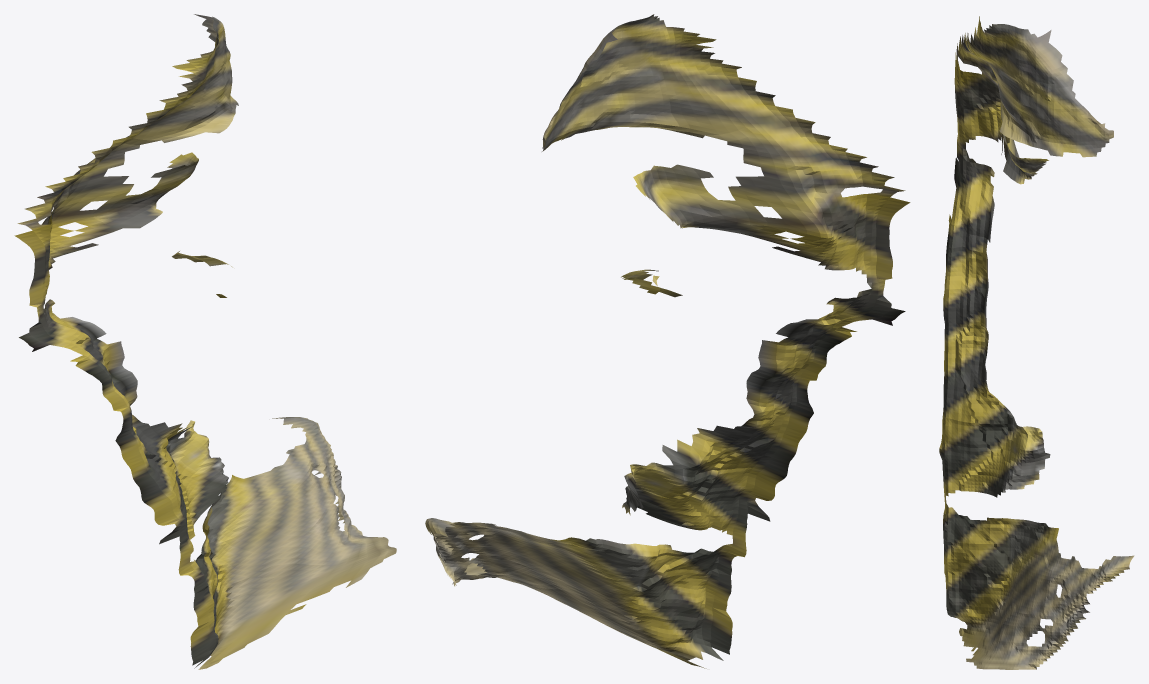
Rendered from entity-work-platform-2.glb.
3 renders of one model, left to right at view 1: azimuth 30°, elevation 25°; view 2: azimuth 150°, elevation 25°; view 3: azimuth 270°, elevation 25°, orthographic. The views are drawn at different scales.
Parts seen in each view (by area): view 1: geometry_0; view 2: geometry_0; view 3: geometry_0.
Boxes of the visible parts, box(x1,y1,x2,y2) form: geometry_0: box(14, 14, 396, 669); geometry_0: box(425, 14, 910, 668); geometry_0: box(939, 16, 1134, 669).
Size of the model in its own units: 2.15 by 3.18 by 0.9047.
